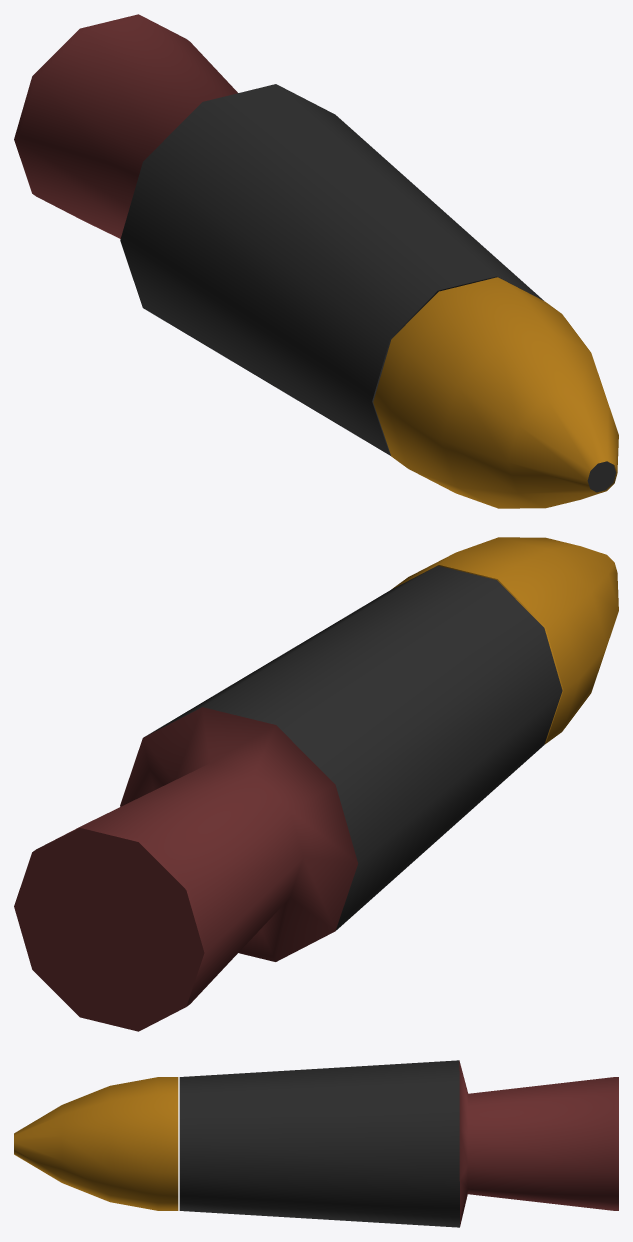
The model's file is Shell.FBX.
3 views of the same model, one above another, from view 1: azimuth 30°, elevation 25°; view 2: azimuth 150°, elevation 25°; view 3: azimuth 270°, elevation 25° (orthographic). The views are drawn at different scales.
Parts seen in each view (by area): view 1: Head; view 2: Head; view 3: Head.
Boxes of the visible parts, bbox=[...] form: Head: bbox=[14, 14, 618, 508]; Head: bbox=[14, 537, 618, 1031]; Head: bbox=[14, 1060, 618, 1227].
Bounding box in the file's own units: 9.26 × 8.81 × 33.24.
